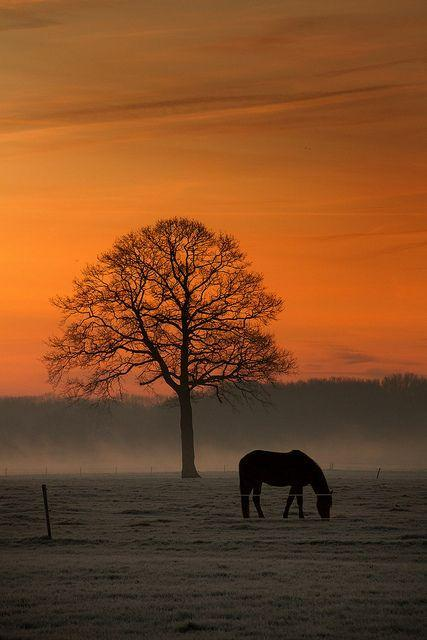horse: (238, 448, 332, 519)
